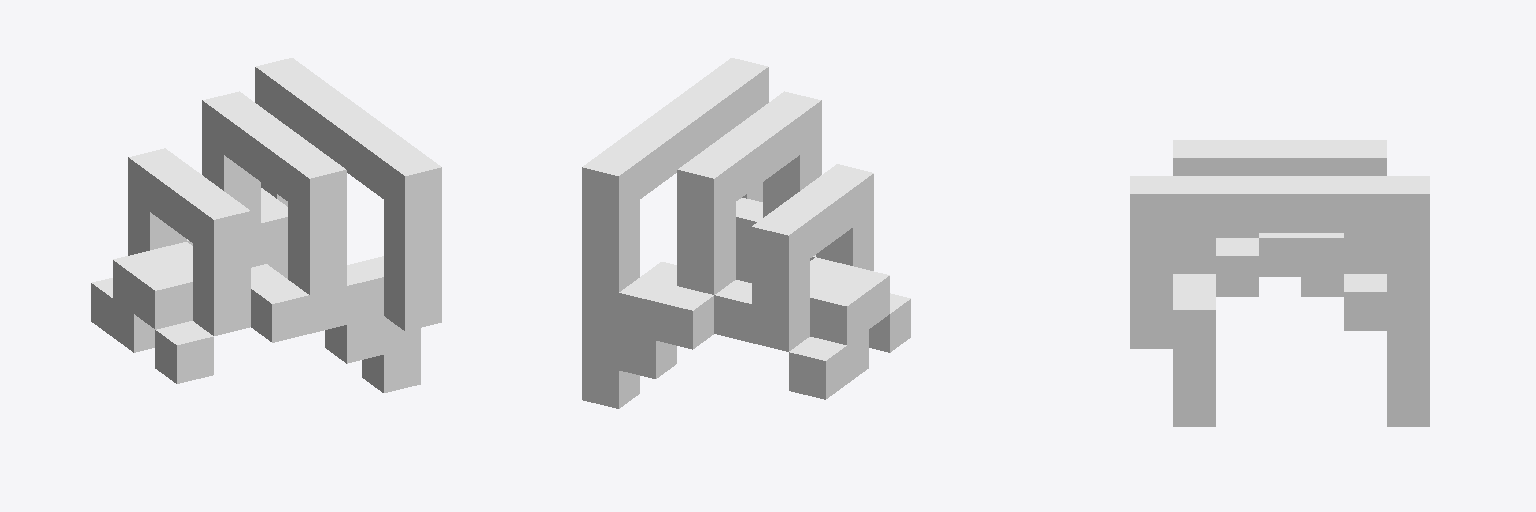
The model's file is RightArm.obj.
The picture shows the model from 3 angles: view 1: azimuth 30°, elevation 25°; view 2: azimuth 150°, elevation 25°; view 3: azimuth 270°, elevation 25°; orthographic projection.
Parts seen in each view (by area): view 1: object 1; view 2: object 1; view 3: object 1.
Part boxes in pixels (x1,y1,x2,y2): object 1: (91,58,441,392); object 1: (582,58,910,408); object 1: (1130,140,1429,426).
Bounding box in the file's own units: 0.6 × 0.6 × 0.7.